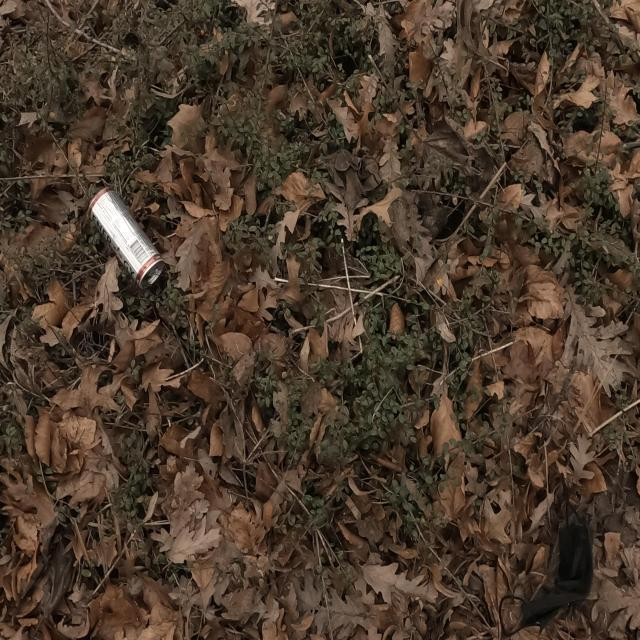Can-Metal: (86, 184, 166, 292)
